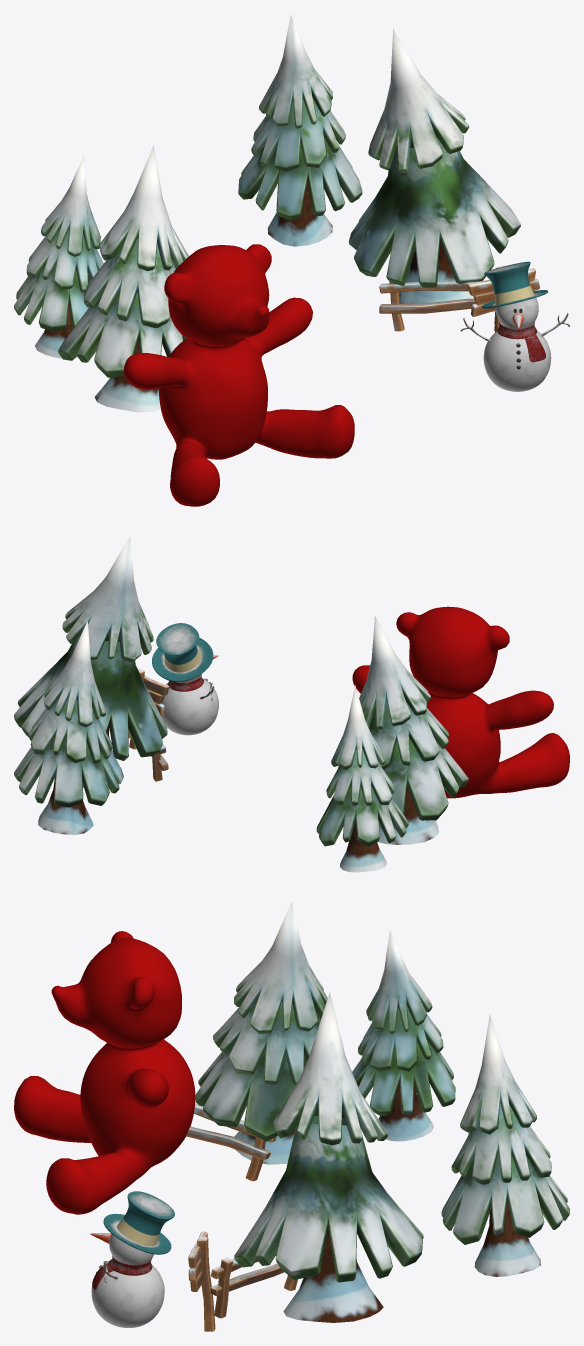
File: snowman2.glb
3 renders of one model, top to bottom at view 1: azimuth 30°, elevation 25°; view 2: azimuth 150°, elevation 25°; view 3: azimuth 270°, elevation 25°, orthographic. The views are drawn at different scales.
Parts seen in each view (by area): view 1: Oso_Base03:Group42068, polySurface21, polySurface23, S_SnowMan_01, polySurface29, polySurface25, polySurface27, polySurface26, polySurface31, polySurface30, polySurface33, polySurface35 (+7 smaller); view 2: Oso_Base03:Group42068, polySurface21, polySurface23, S_SnowMan_01, polySurface29, polySurface27, polySurface25, polySurface33, polySurface31, polySurface30, polySurface26, polySurface34 (+4 smaller); view 3: Oso_Base03:Group42068, polySurface21, S_SnowMan_01, polySurface23, polySurface29, polySurface27, polySurface25, polySurface26, polySurface30, polySurface33, polySurface20, polySurface31 (+9 smaller).
Part boxes in pixels (box(x1,y1,x2,y2)): Oso_Base03:Group42068: box(124, 244, 354, 506); polySurface21: box(348, 136, 520, 287); polySurface23: box(368, 29, 469, 172); S_SnowMan_01: box(460, 261, 569, 391); polySurface29: box(238, 137, 362, 220); polySurface25: box(58, 293, 186, 377); polySurface27: box(99, 145, 188, 270); polySurface26: box(84, 238, 175, 328); polySurface31: box(259, 15, 332, 128); polySurface30: box(251, 98, 345, 171); polySurface33: box(14, 264, 91, 331); polySurface35: box(41, 156, 100, 256); Oso_Base03:Group42068: box(352, 606, 569, 798); polySurface21: box(14, 631, 167, 760); polySurface23: box(62, 536, 153, 662); S_SnowMan_01: box(152, 623, 218, 735); polySurface29: box(14, 737, 119, 807); polySurface27: box(359, 616, 430, 729); polySurface25: box(384, 738, 468, 820); polySurface33: box(316, 785, 408, 846); polySurface31: box(44, 621, 106, 726); polySurface30: box(28, 697, 112, 763); polySurface26: box(368, 701, 448, 769); polySurface34: box(326, 749, 394, 805); Oso_Base03:Group42068: box(14, 931, 195, 1214); polySurface21: box(234, 1116, 423, 1282); S_SnowMan_01: box(90, 1191, 174, 1327); polySurface23: box(273, 992, 387, 1145); polySurface29: box(441, 1153, 569, 1244); polySurface27: box(234, 901, 327, 1033); polySurface25: box(195, 1049, 306, 1141); polySurface26: box(213, 1001, 320, 1085); polySurface30: box(451, 1104, 551, 1184); polySurface33: box(352, 1039, 455, 1116); polySurface20: box(283, 1230, 383, 1322); polySurface31: box(460, 1014, 536, 1134).
Size of the model in its own units: 2.99 by 1.74 by 2.77.
3 materials, 2 textured.
